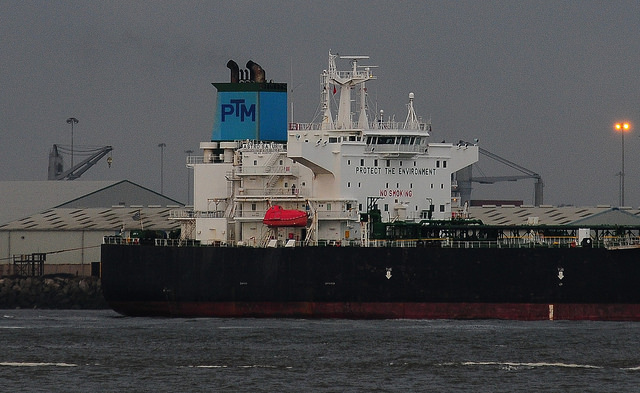tanker: (103, 42, 634, 323)
